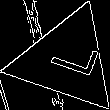L_W: (36, 37, 97, 84)
